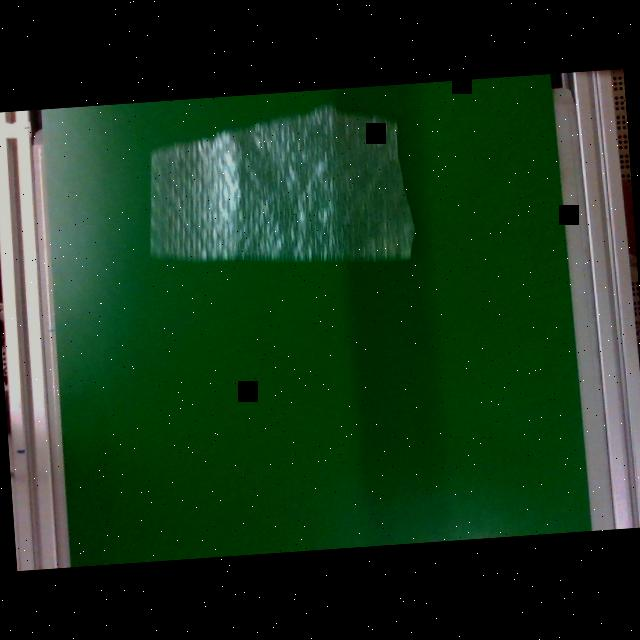scrap_plastic: (136, 97, 416, 280)
